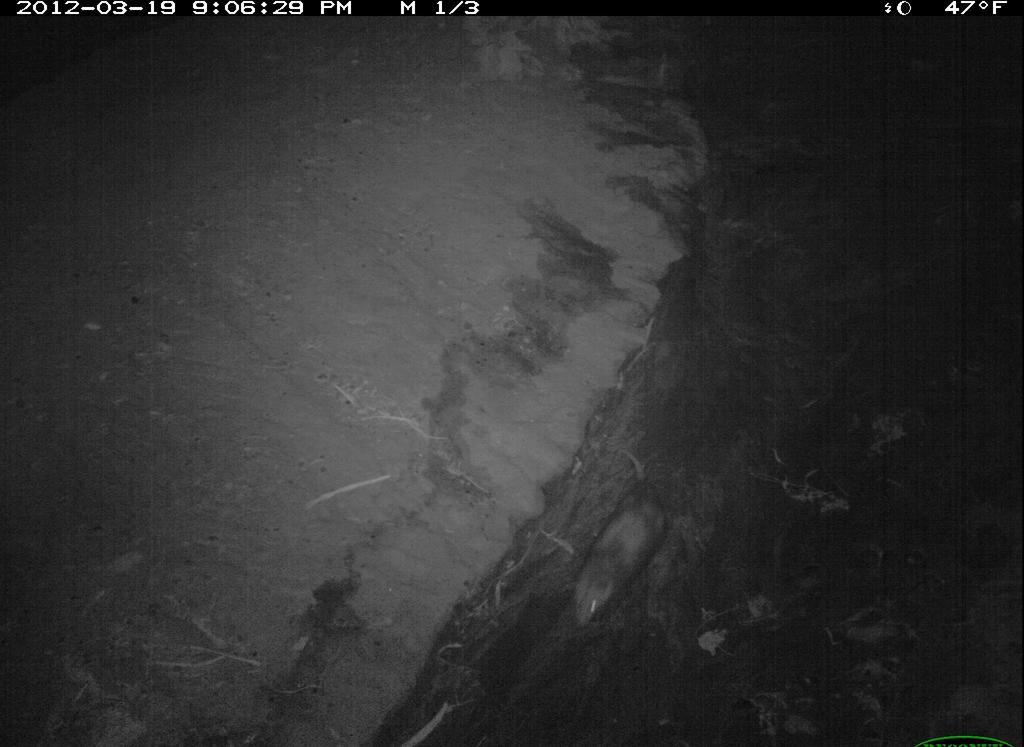opossum: (570, 477, 674, 633)
